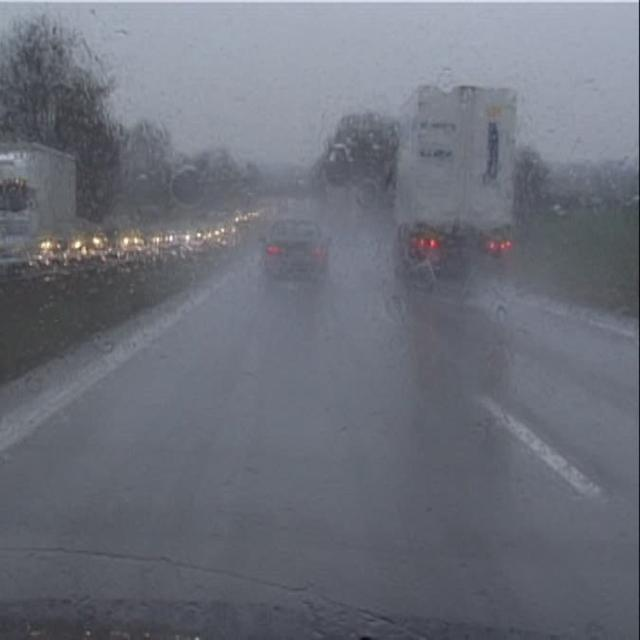bus: (393, 83, 515, 287), (4, 155, 80, 267)
car: (261, 216, 327, 286)
